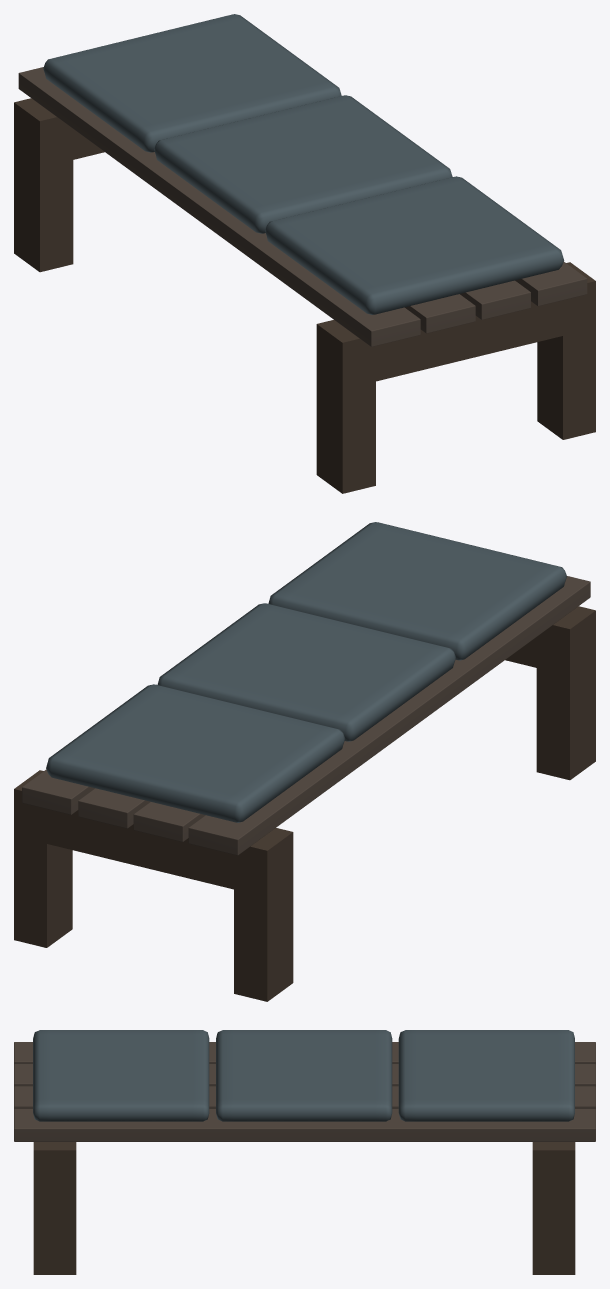
The model's file is MuseumBench2.fbx.
3 views of the same model, one above another, from view 1: azimuth 30°, elevation 25°; view 2: azimuth 150°, elevation 25°; view 3: azimuth 270°, elevation 25° (orthographic). The views are drawn at different scales.
Parts seen in each view (by area): view 1: pCube11, BenchLeg2, pCube10, pCube12, pCube6, BenchLeg1, pCube5, pCube4, pCube3; view 2: pCube12, BenchLeg1, pCube11, pCube10, pCube6, BenchLeg2, pCube5, pCube4, pCube3; view 3: pCube12, pCube10, pCube11, pCube5, BenchLeg1, BenchLeg2, pCube4, pCube3, pCube6.
Part boxes in pixels (left/top/right/bottom): pCube11: left=265, top=176, right=564, bottom=314; BenchLeg2: left=316, top=262, right=595, bottom=493; pCube10: left=154, top=95, right=452, bottom=233; pCube12: left=43, top=14, right=341, bottom=152; pCube6: left=18, top=67, right=420, bottom=346; BenchLeg1: left=14, top=98, right=104, bottom=272; pCube5: left=515, top=262, right=587, bottom=306; pCube4: left=460, top=280, right=530, bottom=319; pCube3: left=405, top=294, right=475, bottom=333; pCube12: left=46, top=684, right=345, bottom=822; BenchLeg1: left=14, top=770, right=293, bottom=1001; pCube11: left=268, top=522, right=566, bottom=660; pCube10: left=157, top=603, right=455, bottom=741; pCube6: left=188, top=576, right=590, bottom=855; BenchLeg2: left=505, top=606, right=595, bottom=780; pCube5: left=22, top=769, right=94, bottom=814; pCube4: left=78, top=788, right=150, bottom=828; pCube3: left=133, top=802, right=205, bottom=841; pCube12: left=398, top=1030, right=574, bottom=1121; pCube10: left=216, top=1030, right=392, bottom=1121; pCube11: left=33, top=1030, right=209, bottom=1121; pCube5: left=14, top=1109, right=595, bottom=1141; BenchLeg1: left=532, top=1142, right=575, bottom=1274; BenchLeg2: left=33, top=1142, right=76, bottom=1274; pCube4: left=14, top=1086, right=595, bottom=1108; pCube3: left=14, top=1064, right=595, bottom=1086; pCube6: left=14, top=1042, right=595, bottom=1064.
Size of the model in its own units: 5.66 by 4.04 by 13.66.
